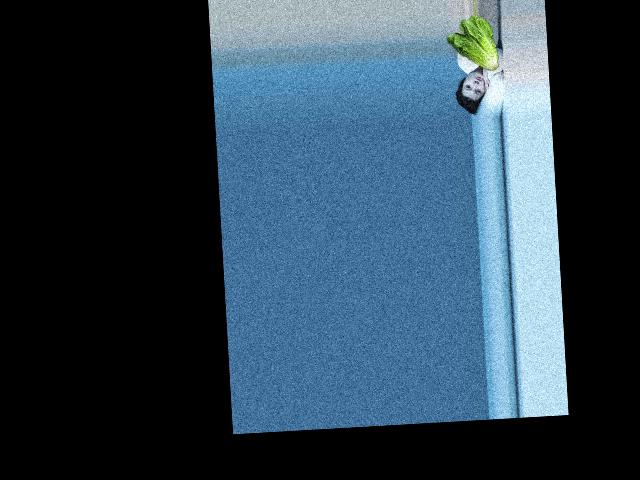lettuce: (445, 12, 503, 72)
